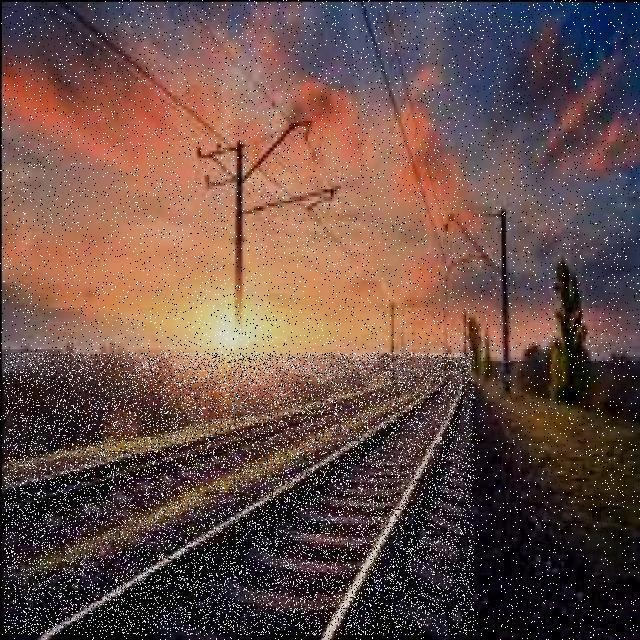rail: (5, 354, 475, 636)
